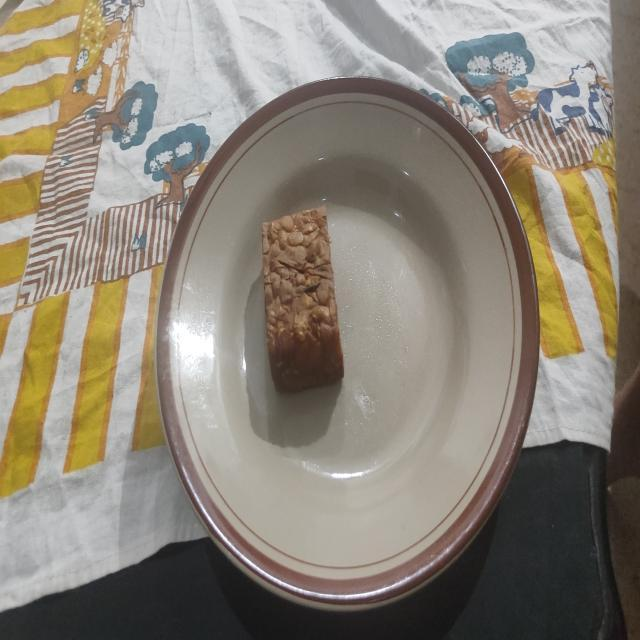tempe_goreng: (262, 207, 342, 390)
